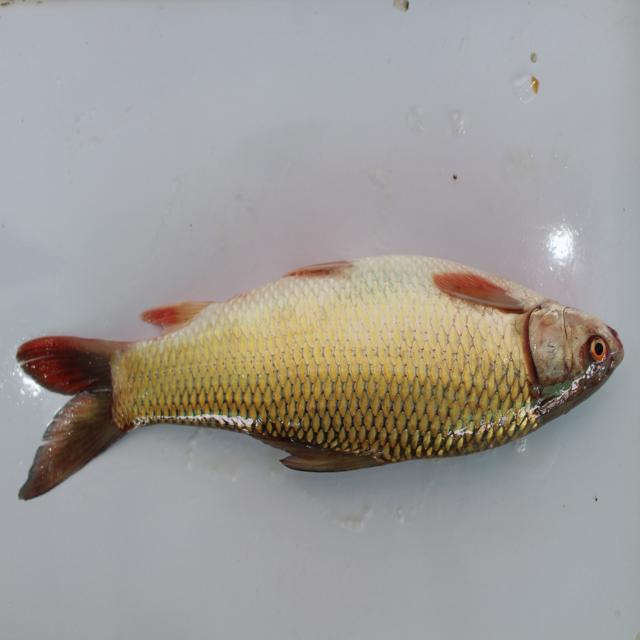Mori: (12, 245, 639, 512)
